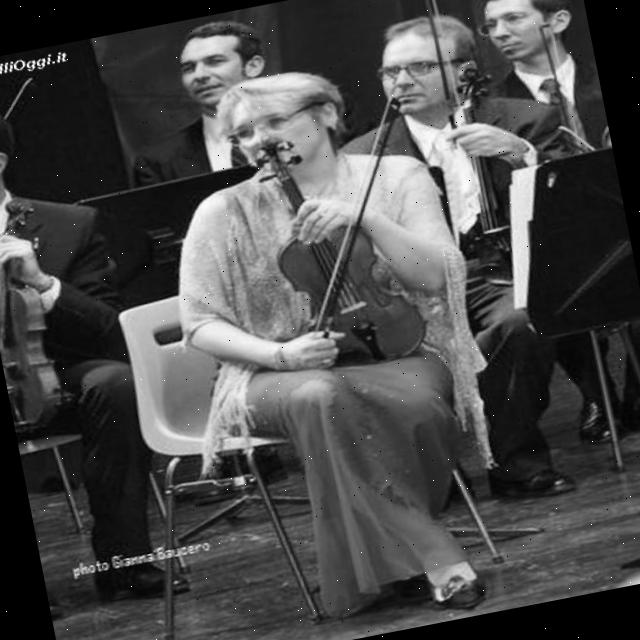violin: (246, 107, 442, 384), (441, 51, 546, 268), (0, 192, 79, 435)
